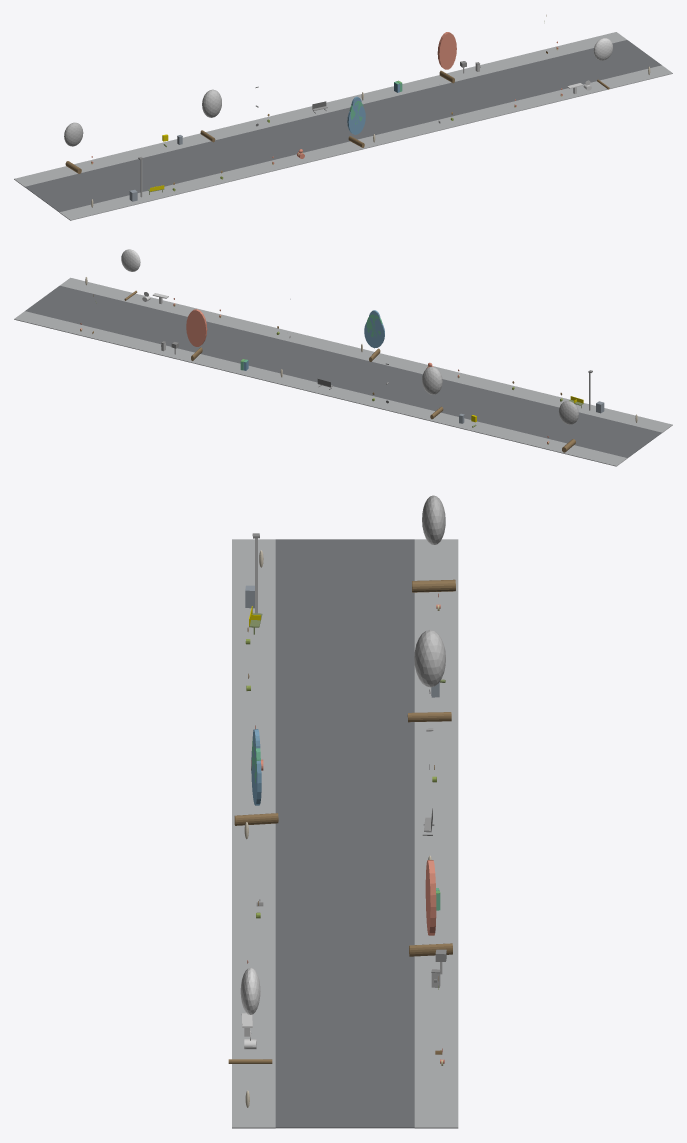
3 renders of one model, top to bottom at view 1: azimuth 30°, elevation 25°; view 2: azimuth 150°, elevation 25°; view 3: azimuth 270°, elevation 25°, orthographic. The views are drawn at different scales.
Parts seen in each view (by area): view 1: road_slab, sidewalk_left, sidewalk_right, inst_0015, inst_0014, inst_0013, inst_0012, inst_0016; view 2: road_slab, sidewalk_right, sidewalk_left, inst_0015, inst_0014, inst_0013, inst_0012, inst_0016; view 3: road_slab, sidewalk_left, sidewalk_right, inst_0013, inst_0012, inst_0015, inst_0014, inst_0016.
Part boxes in pixels (left/top/right/bottom): road_slab: left=25, top=40, right=661, bottom=212; sidewalk_left: left=59, top=65, right=672, bottom=220; sidewalk_right: left=14, top=32, right=626, bottom=187; inst_0015: left=437, top=32, right=456, bottom=83; inst_0014: left=347, top=96, right=365, bottom=147; inst_0013: left=200, top=89, right=221, bottom=142; inst_0012: left=64, top=122, right=83, bottom=173; inst_0016: left=593, top=38, right=612, bottom=89; road_slab: left=25, top=285, right=661, bottom=458; sidewalk_right: left=14, top=311, right=627, bottom=466; sidewalk_left: left=60, top=277, right=672, bottom=432; inst_0015: left=186, top=309, right=207, bottom=360; inst_0014: left=364, top=310, right=384, bottom=361; inst_0013: left=422, top=366, right=443, bottom=419; inst_0012: left=559, top=401, right=578, bottom=452; inst_0016: left=121, top=249, right=140, bottom=300; road_slab: left=275, top=539, right=414, bottom=1128; sidewalk_left: left=232, top=539, right=275, bottom=1128; sidewalk_right: left=414, top=539, right=458, bottom=1128; inst_0013: left=407, top=630, right=451, bottom=722; inst_0012: left=412, top=495, right=455, bottom=592; inst_0015: left=409, top=860, right=452, bottom=956; inst_0014: left=234, top=729, right=278, bottom=825; inst_0016: left=228, top=967, right=272, bottom=1063.
Bounding box in the file's own units: 80 × 6.08 × 13.19.
